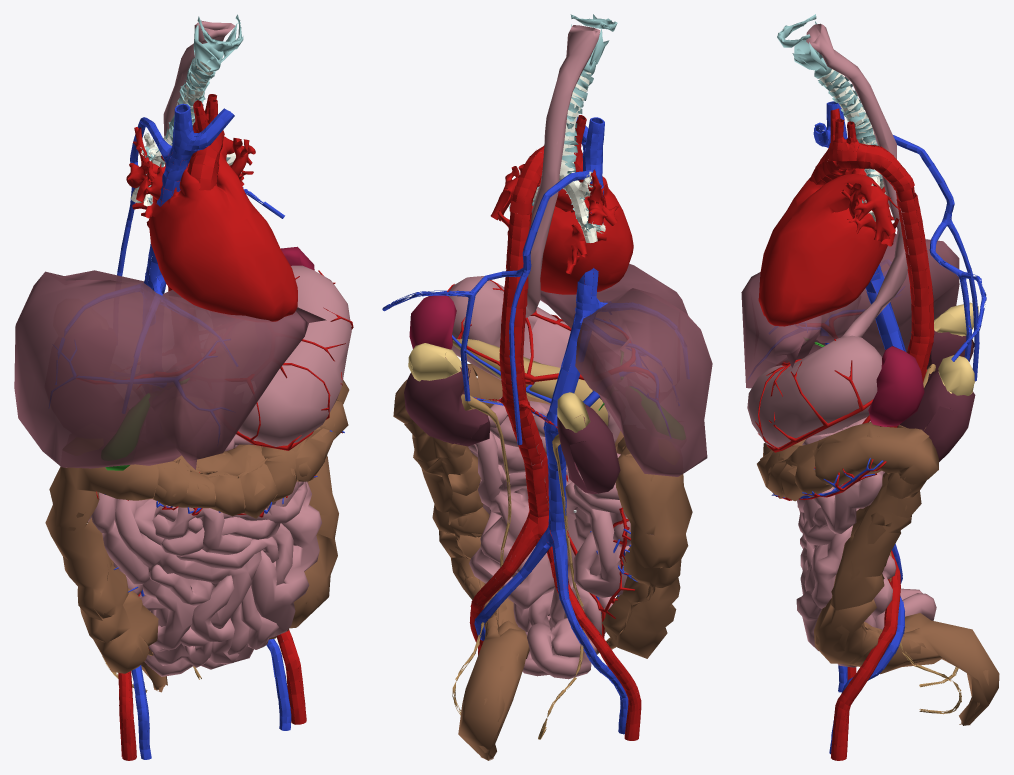
File: Sistemas.fbx
3 views of the same model, side by side, from view 1: azimuth 30°, elevation 25°; view 2: azimuth 150°, elevation 25°; view 3: azimuth 270°, elevation 25° (orthographic). The views are drawn at different scales.
Parts seen in each view (by area): view 1: Lever_liver_mat_0.001, Intestine_Small_Dunne_darms_stomach_mat_0, Intestine_Large_Dikke_darms_large_int_mat_0, Heart_arteries_mat_0.001, Vein_1_veins_mat_0.001, Artery_1_arteries_mat_0.001, Gallbladder_Galblaas_gallbladder_mat_0.001, Artery_2_arteries_mat_0.001, Cartilage_throat_cartilage_mat_0.001, Cartilage_trachea_cartilage_mat_0.001, Trachea_trachea_mat_0.001, Vein_3_veins_mat_0.001; view 2: Intestine_Small_Dunne_darms_stomach_mat_0, Intestine_Large_Dikke_darms_large_int_mat_0, Lever_liver_mat_0.001, Vein_1_veins_mat_0.001, Artery_1_arteries_mat_0.001, Heart_arteries_mat_0.001, Kidney_L_kidneys_mat_0.001, Kidney_R_kidneys_mat_0.001, Spleen_Milt_spleen_mat_0.001, Pancreas_pancreas_mat_0.001, Trachea_trachea_mat_0.001, Suprarenal_L_suprarrenal_mat_0.001 (+9 smaller); view 3: Intestine_Large_Dikke_darms_large_int_mat_0, Intestine_Small_Dunne_darms_stomach_mat_0, Heart_arteries_mat_0.001, Artery_1_arteries_mat_0.001, Lever_liver_mat_0.001, Vein_1_veins_mat_0.001, Spleen_Milt_spleen_mat_0.001, Kidney_L_kidneys_mat_0.001, Artery_2_arteries_mat_0.001, Cartilage_trachea_cartilage_mat_0.001, Cartilage_throat_cartilage_mat_0.001, Suprarenal_L_suprarrenal_mat_0.001 (+6 smaller).
Boxes of the visible parts, x1,y1,x2,y2 form: Lever_liver_mat_0.001: (14, 270, 326, 469); Intestine_Small_Dunne_darms_stomach_mat_0: (88, 20, 351, 676); Intestine_Large_Dikke_darms_large_int_mat_0: (45, 379, 349, 692); Heart_arteries_mat_0.001: (126, 127, 297, 321); Vein_1_veins_mat_0.001: (55, 103, 291, 759); Artery_1_arteries_mat_0.001: (118, 94, 306, 760); Gallbladder_Galblaas_gallbladder_mat_0.001: (101, 378, 189, 470); Artery_2_arteries_mat_0.001: (76, 270, 353, 450); Cartilage_throat_cartilage_mat_0.001: (193, 14, 243, 72); Cartilage_trachea_cartilage_mat_0.001: (138, 57, 230, 204); Trachea_trachea_mat_0.001: (130, 61, 235, 206); Vein_3_veins_mat_0.001: (49, 339, 230, 441); Intestine_Small_Dunne_darms_stomach_mat_0: (448, 25, 653, 679); Intestine_Large_Dikke_darms_large_int_mat_0: (393, 363, 692, 760); Lever_liver_mat_0.001: (540, 263, 712, 476); Vein_1_veins_mat_0.001: (382, 117, 689, 734); Artery_1_arteries_mat_0.001: (469, 115, 641, 740); Heart_arteries_mat_0.001: (490, 164, 633, 294); Kidney_L_kidneys_mat_0.001: (404, 357, 490, 446); Kidney_R_kidneys_mat_0.001: (557, 404, 620, 494); Spleen_Milt_spleen_mat_0.001: (409, 295, 456, 349); Pancreas_pancreas_mat_0.001: (452, 339, 608, 425); Trachea_trachea_mat_0.001: (508, 72, 605, 242); Suprarenal_L_suprarrenal_mat_0.001: (408, 343, 461, 381); Intestine_Large_Dikke_darms_large_int_mat_0: (757, 422, 999, 725); Intestine_Small_Dunne_darms_stomach_mat_0: (747, 23, 936, 667); Heart_arteries_mat_0.001: (758, 168, 900, 326); Artery_1_arteries_mat_0.001: (809, 108, 934, 760); Lever_liver_mat_0.001: (741, 234, 959, 388); Vein_1_veins_mat_0.001: (769, 101, 986, 754); Spleen_Milt_spleen_mat_0.001: (868, 346, 924, 426); Kidney_L_kidneys_mat_0.001: (897, 370, 975, 461); Artery_2_arteries_mat_0.001: (755, 313, 873, 452); Cartilage_trachea_cartilage_mat_0.001: (818, 70, 882, 211); Cartilage_throat_cartilage_mat_0.001: (777, 14, 831, 78); Suprarenal_L_suprarrenal_mat_0.001: (938, 355, 975, 395).
Size of the model in its own units: 28995 by 69039 by 23232.
